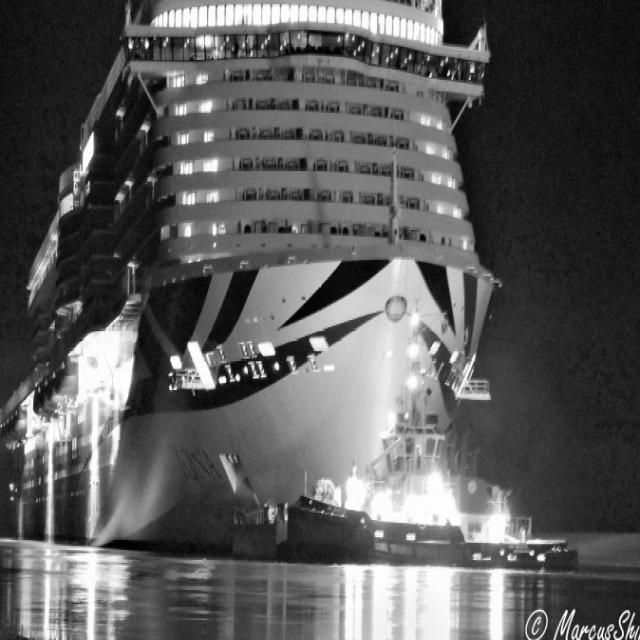cruises: (1, 1, 504, 584)
